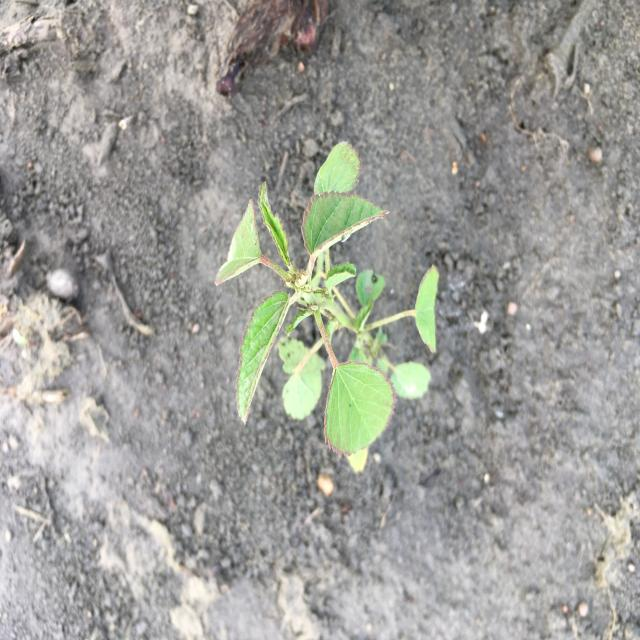PricklySida: (212, 138, 442, 476)
